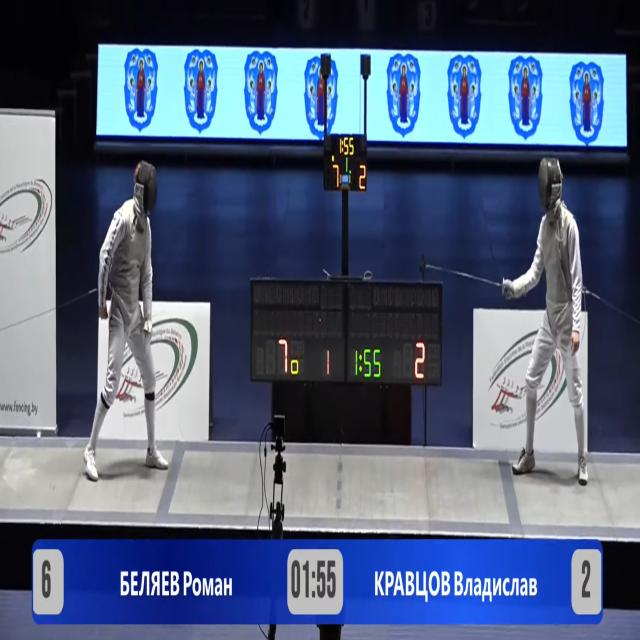fencer: (495, 165, 596, 485), (82, 152, 169, 490)
overlayLeft: (68, 541, 290, 622)
overlayRight: (353, 543, 566, 623)
scoreLeft: (33, 545, 67, 621)
scoreRight: (567, 545, 602, 623)
